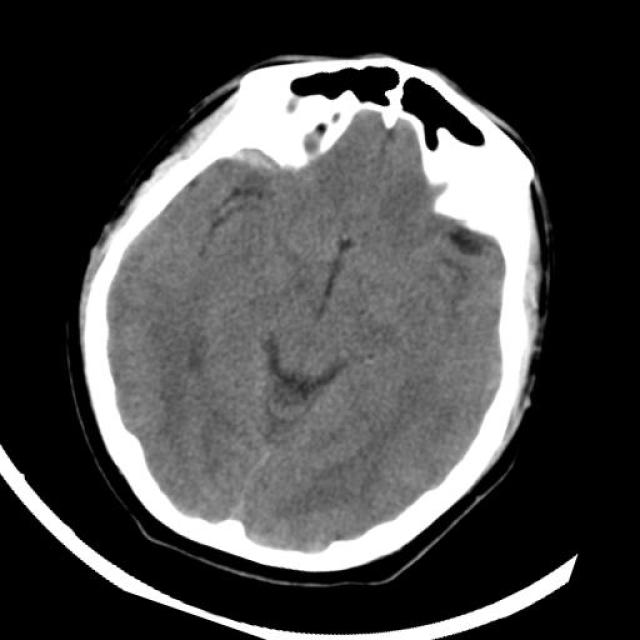Subdural: (174, 110, 298, 216)
